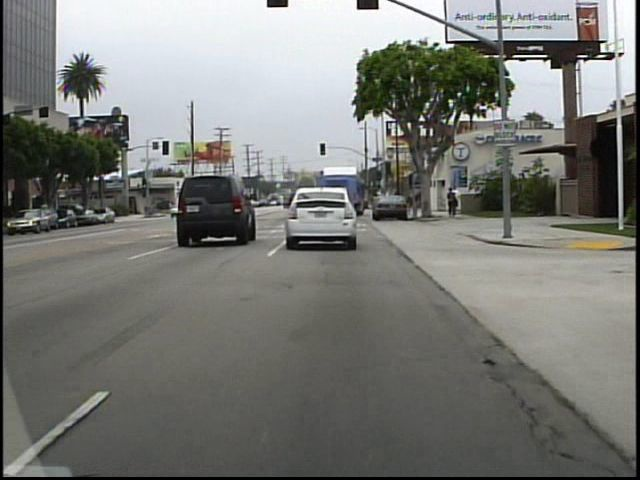person: (445, 186, 458, 221), (453, 184, 463, 217)
